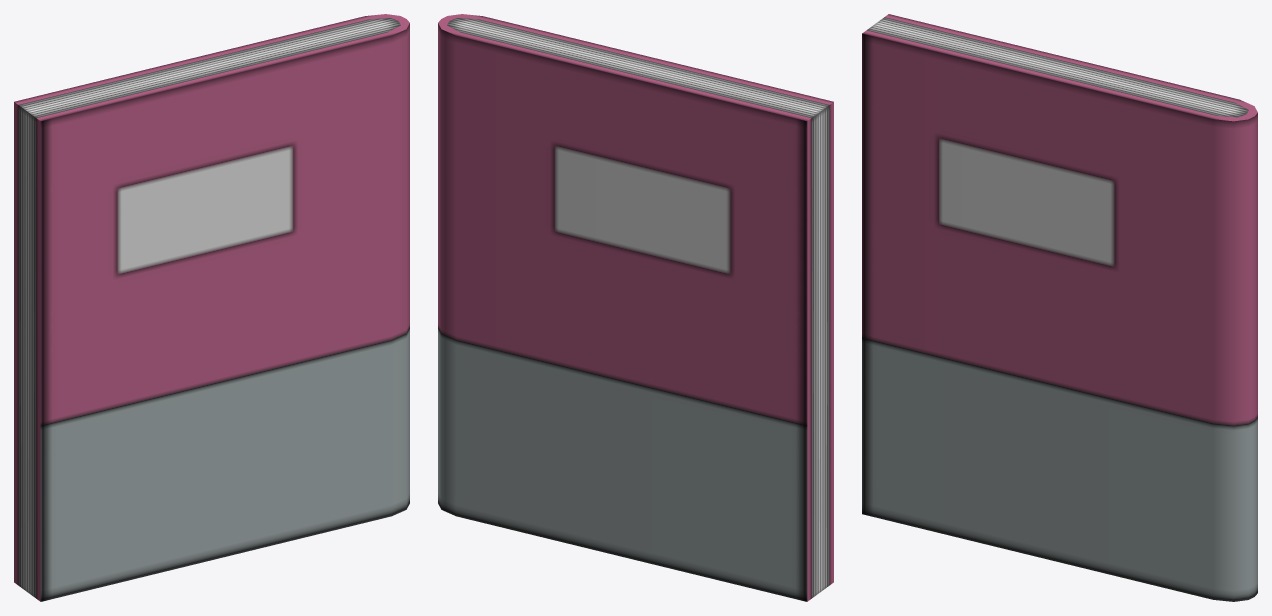
The model's file is book4.fbx.
3 renders of one model, left to right at view 1: azimuth 30°, elevation 25°; view 2: azimuth 150°, elevation 25°; view 3: azimuth 330°, elevation 25°, orthographic.
Parts seen in each view (by area): view 1: polySurface209; view 2: polySurface209; view 3: polySurface209.
Boxes of the visible parts, x1,y1,x2,y2 form: polySurface209: [14, 14, 409, 601]; polySurface209: [438, 14, 833, 601]; polySurface209: [862, 14, 1257, 601].
Bounding box in the file's own units: 0.3199 × 0.3874 × 0.0391.
